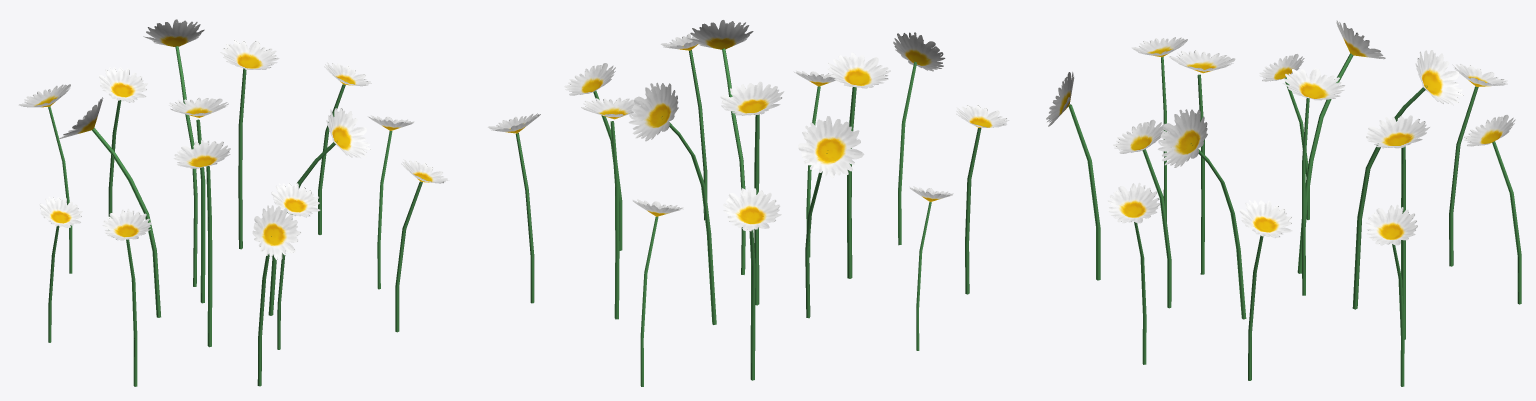
Rendered from SM_flower_group_03.fbx.
The picture shows the model from 3 angles, left to right: view 1: azimuth 30°, elevation 25°; view 2: azimuth 150°, elevation 25°; view 3: azimuth 270°, elevation 25°; orthographic projection. The views are drawn at different scales.
Visible parts, largest first — view 1: Cylinder006; view 2: Cylinder006; view 3: Cylinder006.
Part boxes in pixels (bbox=[...]): Cylinder006: bbox=[18, 19, 448, 386]; Cylinder006: bbox=[488, 20, 1009, 386]; Cylinder006: bbox=[1046, 20, 1521, 386].
Bounding box in the file's own units: 41.35 × 25.58 × 41.13.
